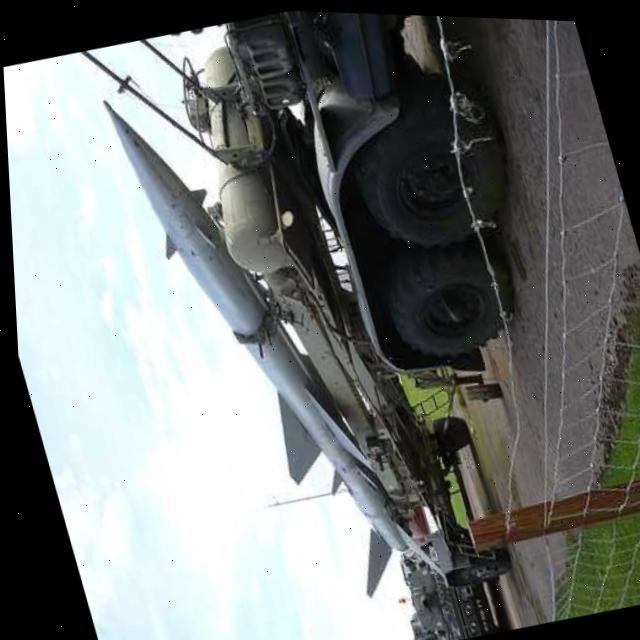missile: (87, 45, 430, 613)
